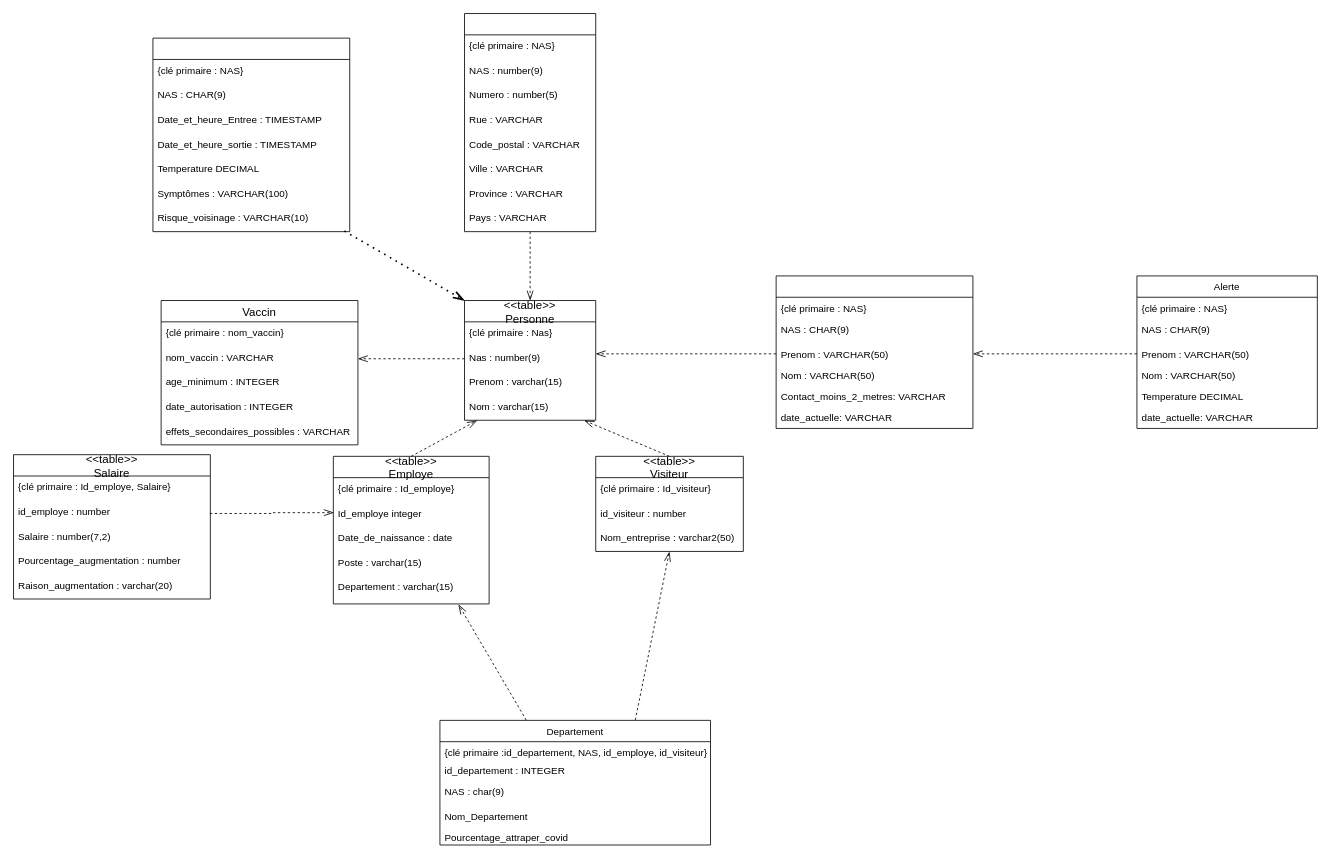
Image size: 1331x859. Some labels were removed from this diagram. The box of each missing label's shape, as (x1, y1, x2, y2) in pixels:
Adresse: (464, 13, 596, 232)
check-in/out: (152, 37, 350, 232)
Personne à risque: (775, 275, 973, 428)
